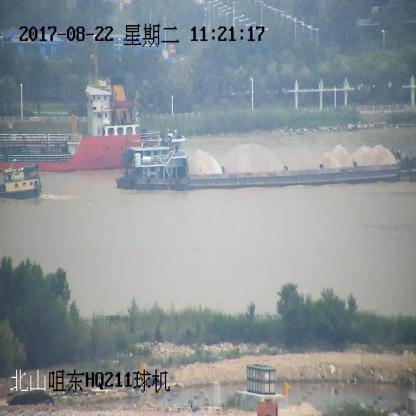Fishing Boat: (0, 161, 42, 199)
